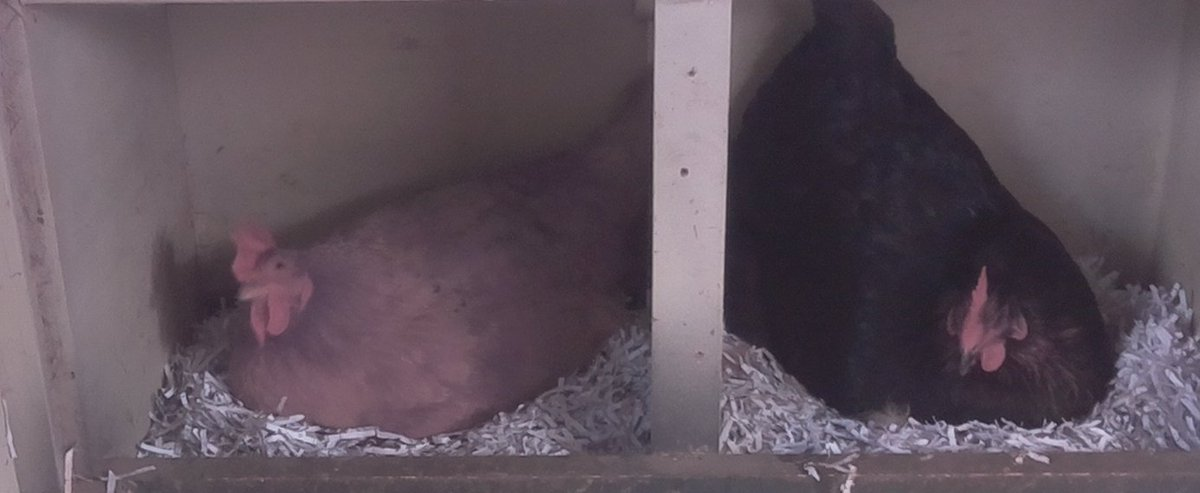hen: (734, 5, 1117, 430), (216, 65, 651, 433)
